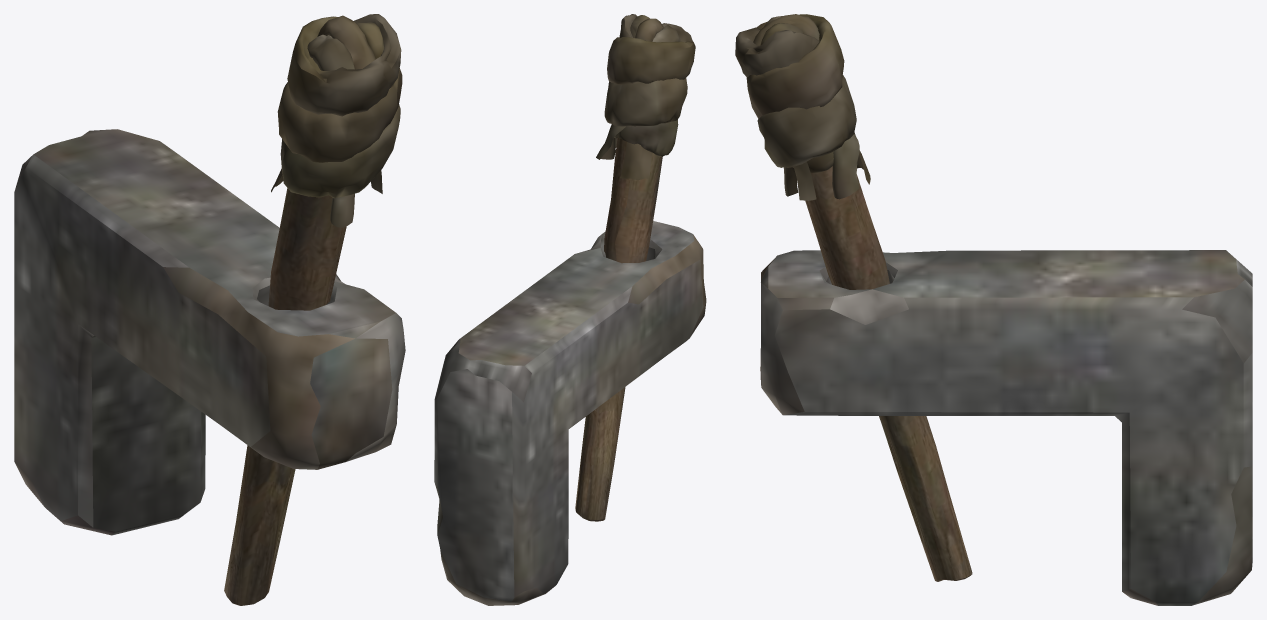
Rendered from cargo_ruin_torch.glb.
3 renders of one model, left to right at view 1: azimuth 30°, elevation 25°; view 2: azimuth 150°, elevation 25°; view 3: azimuth 270°, elevation 25°, orthographic. The views are drawn at different scales.
Parts seen in each view (by area): view 1: KB3D_SOL_AssemblyTorch_A_Support_A, KB3D_SOL_AssemblyTorch_A_Torch_A; view 2: KB3D_SOL_AssemblyTorch_A_Support_A, KB3D_SOL_AssemblyTorch_A_Torch_A; view 3: KB3D_SOL_AssemblyTorch_A_Support_A, KB3D_SOL_AssemblyTorch_A_Torch_A.
Boxes of the visible parts, left/top/right/bottom form: KB3D_SOL_AssemblyTorch_A_Support_A: left=14, top=129, right=405, bottom=535; KB3D_SOL_AssemblyTorch_A_Torch_A: left=224, top=14, right=402, bottom=605; KB3D_SOL_AssemblyTorch_A_Support_A: left=434, top=221, right=706, bottom=605; KB3D_SOL_AssemblyTorch_A_Torch_A: left=575, top=14, right=695, bottom=521; KB3D_SOL_AssemblyTorch_A_Support_A: left=760, top=250, right=1252, bottom=605; KB3D_SOL_AssemblyTorch_A_Torch_A: left=735, top=14, right=972, bottom=581.
Size of the model in its own units: 0.177 by 0.8552 by 0.7002.
Materials: 4 (4 with a texture image).
